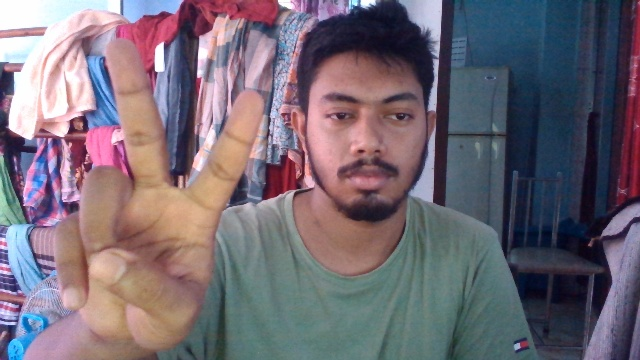thanks: (51, 35, 270, 345)
